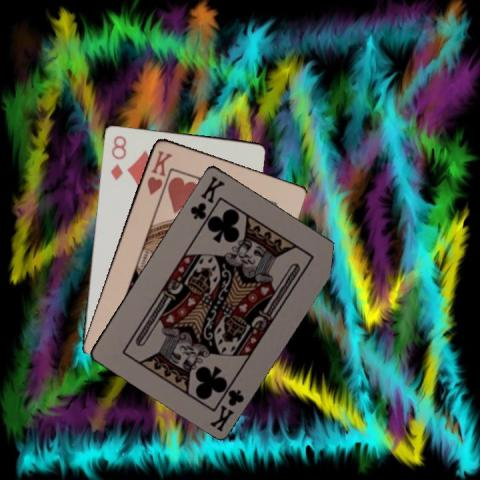8d: (107, 132, 128, 181)
Kc: (186, 172, 227, 221), (207, 385, 246, 433)
Kh: (144, 147, 173, 196)
